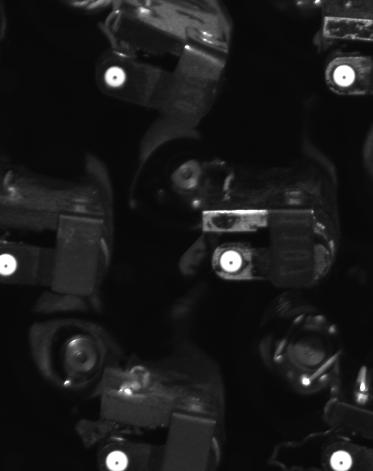fiber: (217, 245, 249, 281), (329, 60, 359, 88), (101, 63, 131, 90), (104, 444, 135, 470), (322, 448, 358, 470), (1, 252, 26, 282)
